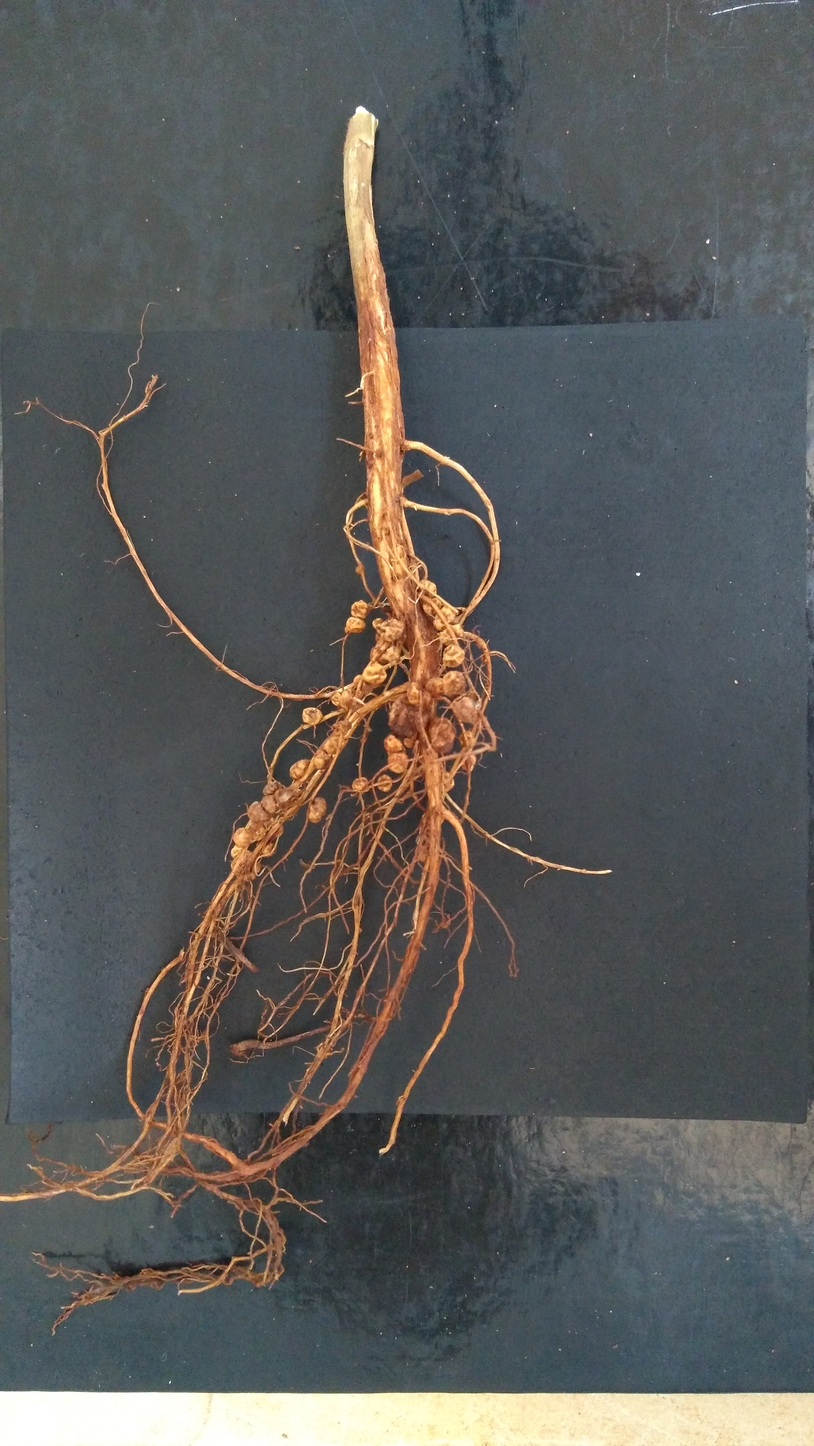nodule: (385, 690, 433, 740), (427, 713, 458, 755), (448, 690, 484, 726), (229, 848, 262, 882), (371, 617, 406, 643), (440, 668, 468, 699), (273, 786, 302, 813), (440, 642, 467, 669), (361, 661, 388, 687), (431, 605, 456, 632), (246, 800, 273, 824), (387, 750, 412, 775), (438, 623, 464, 647), (338, 686, 362, 711), (422, 674, 447, 698), (231, 826, 257, 849), (307, 796, 328, 824), (376, 645, 403, 666), (404, 680, 423, 709), (351, 673, 374, 696), (382, 733, 406, 755), (321, 735, 346, 755), (289, 758, 311, 780), (301, 706, 325, 726), (458, 750, 478, 774), (342, 616, 367, 634), (417, 578, 438, 599), (260, 793, 279, 815), (350, 599, 369, 620), (313, 752, 334, 771), (421, 597, 442, 616), (441, 769, 456, 794), (377, 772, 393, 794), (262, 780, 284, 796), (368, 644, 386, 663), (458, 730, 477, 748), (350, 775, 370, 792), (261, 842, 278, 859), (332, 719, 352, 733), (229, 843, 244, 861), (328, 690, 343, 707), (270, 821, 284, 838), (403, 736, 416, 749), (355, 564, 366, 575)
